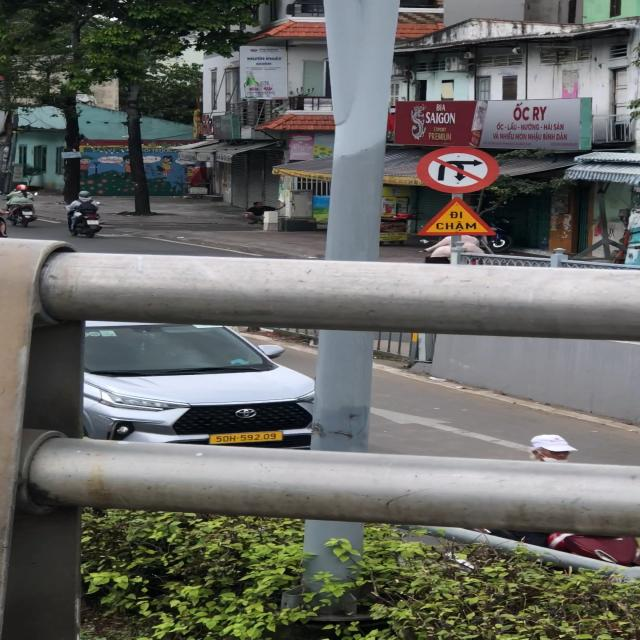Bien bao cam re phai va quay dau: (412, 142, 502, 195)
Bien bao di cham: (410, 198, 503, 242)
